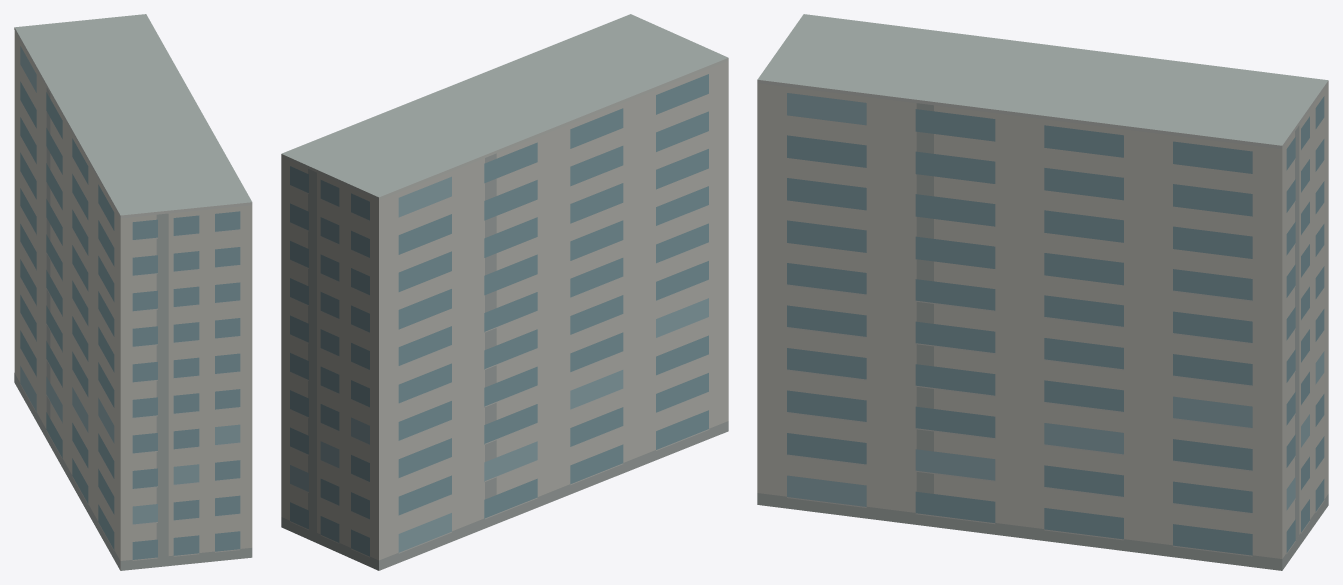
The model's file is residential-00b1c6b2-b971-4ef3-ba11-a8acf91ed5bd.glb.
3 views of the same model, side by side, from view 1: azimuth 30°, elevation 25°; view 2: azimuth 150°, elevation 25°; view 3: azimuth 270°, elevation 25° (orthographic). The views are drawn at different scales.
Parts seen in each view (by area): view 1: residential-00b1c6b2-b971-4ef3-ba11-a8acf91ed5bd.tmp; view 2: residential-00b1c6b2-b971-4ef3-ba11-a8acf91ed5bd.tmp; view 3: residential-00b1c6b2-b971-4ef3-ba11-a8acf91ed5bd.tmp.
Boxes of the visible parts, x1=… form: residential-00b1c6b2-b971-4ef3-ba11-a8acf91ed5bd.tmp: x1=14, y1=14, x2=252, y2=570; residential-00b1c6b2-b971-4ef3-ba11-a8acf91ed5bd.tmp: x1=281, y1=14, x2=728, y2=570; residential-00b1c6b2-b971-4ef3-ba11-a8acf91ed5bd.tmp: x1=757, y1=14, x2=1328, y2=570.
Bounding box in the file's own units: 20.62 × 31 × 37.76.
